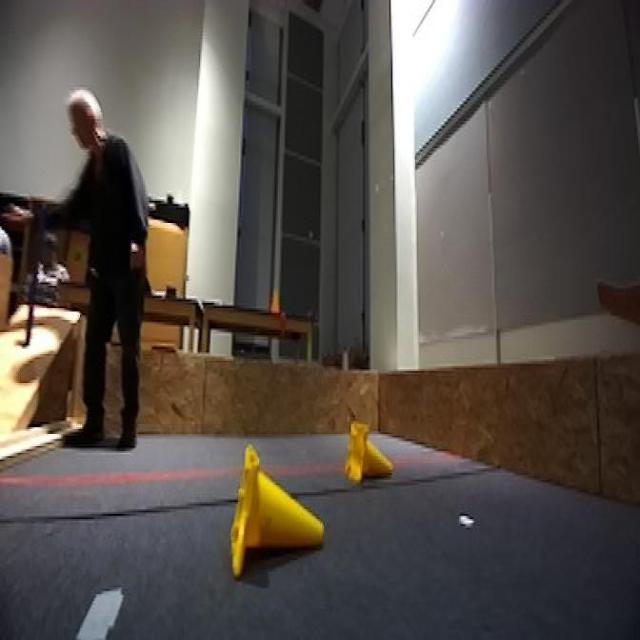frc_cone: (226, 449, 330, 574), (342, 424, 397, 483)
